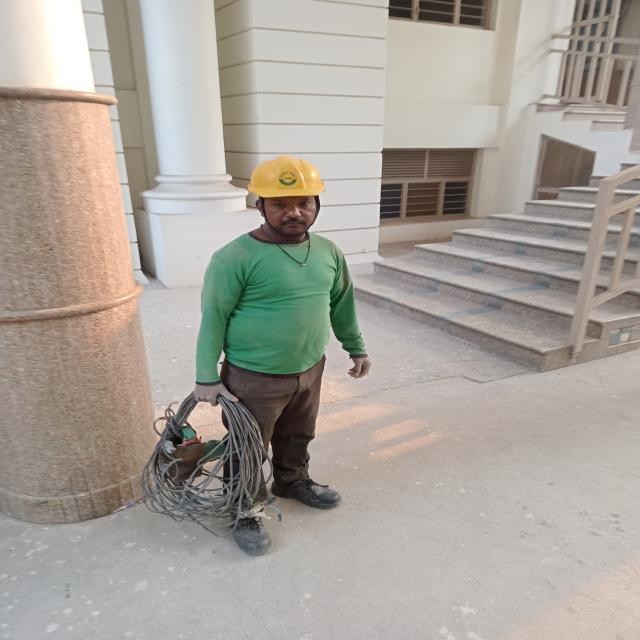no jacket: (200, 149, 364, 548)
